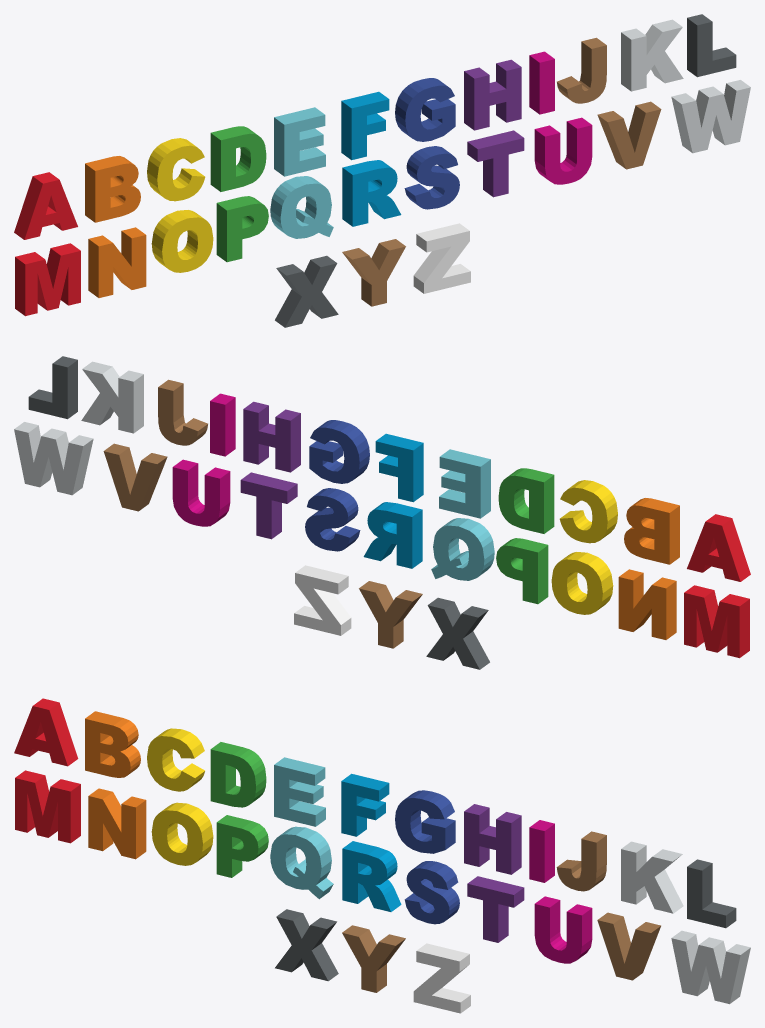
File: tinker.obj
The picture shows the model from 3 angles, top to bottom: view 1: azimuth 30°, elevation 25°; view 2: azimuth 150°, elevation 25°; view 3: azimuth 330°, elevation 25°; orthographic projection.
Visible parts, largest first — view 1: group_0_14541540, group_0_11107152, group_0_15277357, group_0_16089887, group_0_7720667, group_0_3888547, group_0_16768282, group_0_4634441, group_0_40919, group_0_8273816, group_0_6383466, group_0_14093196 (+1 smaller); view 2: group_0_14541540, group_0_11107152, group_0_15277357, group_0_16089887, group_0_7720667, group_0_3888547, group_0_16768282, group_0_4634441, group_0_40919, group_0_8273816, group_0_6383466, group_0_14093196 (+1 smaller); view 3: group_0_14541540, group_0_11107152, group_0_15277357, group_0_16089887, group_0_7720667, group_0_3888547, group_0_16768282, group_0_40919, group_0_4634441, group_0_8273816, group_0_6383466, group_0_14093196 (+1 smaller).
Boxes of the visible parts, x1,y1,x2,y2 form: group_0_14541540: (621,19,750,153); group_0_11107152: (342,37,661,306); group_0_15277357: (14,172,80,316); group_0_16089887: (85,156,146,297); group_0_7720667: (270,107,333,238); group_0_3888547: (395,78,459,209); group_0_16768282: (147,138,213,272); group_0_4634441: (210,126,268,262); group_0_40919: (341,91,401,226); group_0_8273816: (464,59,524,197); group_0_6383466: (275,14,736,327); group_0_14093196: (529,51,592,184); group_0_14541540: (14,361,143,495); group_0_11107152: (103,379,422,648); group_0_15277357: (684,514,750,658); group_0_16089887: (618,498,679,639); group_0_7720667: (431,449,494,580); group_0_3888547: (305,420,369,551); group_0_16768282: (551,480,617,614); group_0_4634441: (496,468,554,604); group_0_40919: (363,433,423,568); group_0_8273816: (240,401,300,539); group_0_6383466: (28,356,489,669); group_0_14093196: (172,393,235,526); group_0_14541540: (621,841,750,1004); group_0_11107152: (342,831,660,992); group_0_15277357: (14,698,80,843); group_0_16089887: (85,711,146,859); group_0_7720667: (270,757,333,899); group_0_3888547: (395,790,459,924); group_0_16768282: (147,728,213,865); group_0_40919: (341,773,401,911); group_0_4634441: (210,742,268,877); group_0_8273816: (464,804,524,942); group_0_6383466: (275,859,736,981); group_0_14093196: (529,820,592,963).
Bounding box in the file's own units: 162 × 44 × 4.
